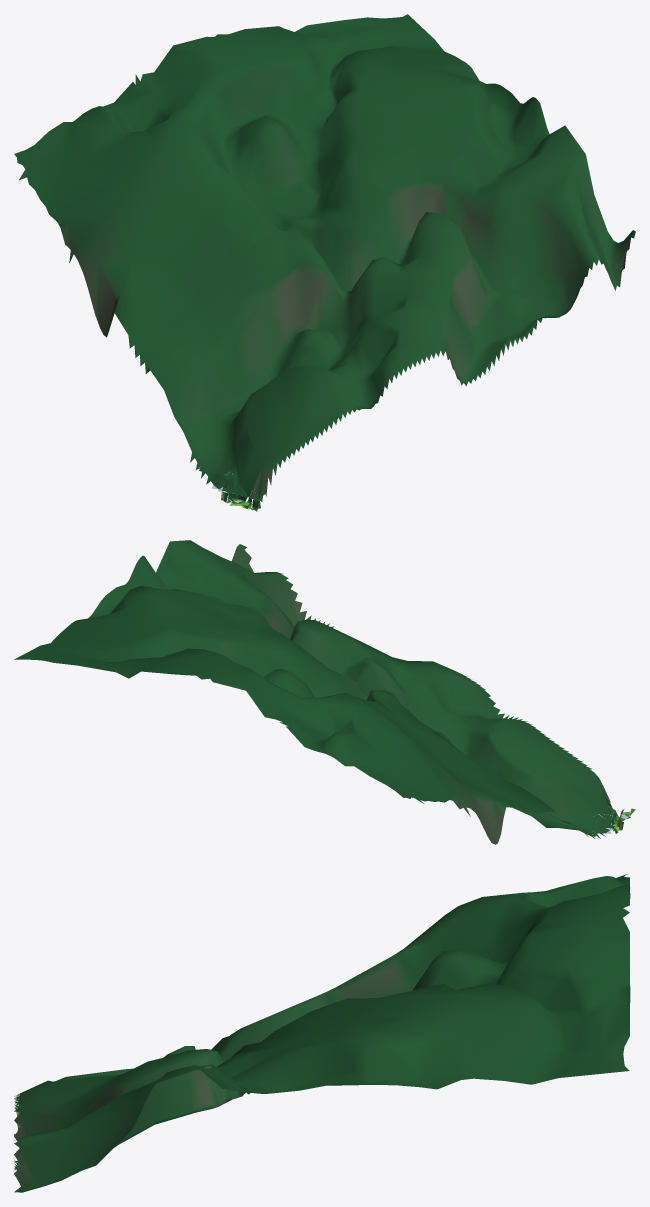
File: payo_land_xm3_y4_lod2.glb
3 views of the same model, one above another, from view 1: azimuth 30°, elevation 25°; view 2: azimuth 150°, elevation 25°; view 3: azimuth 270°, elevation 25° (orthographic). The views are drawn at different scales.
Visible parts, largest first — view 1: payo_land_xm3_y4; view 2: payo_land_xm3_y4; view 3: payo_land_xm3_y4.
Boxes of the visible parts, x1,y1,x2,y2 form: payo_land_xm3_y4: (14,14,635,511); payo_land_xm3_y4: (14,540,635,844); payo_land_xm3_y4: (14,874,630,1192).
Bounding box in the file's own units: 260 × 162 × 261.
